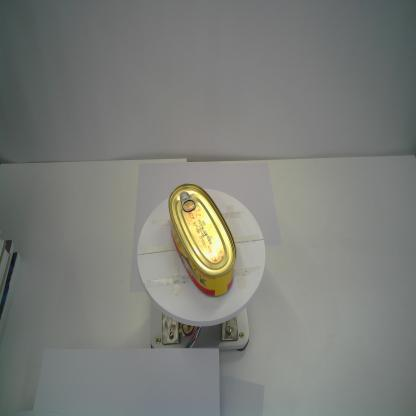Canned Food: (167, 182, 238, 298)
